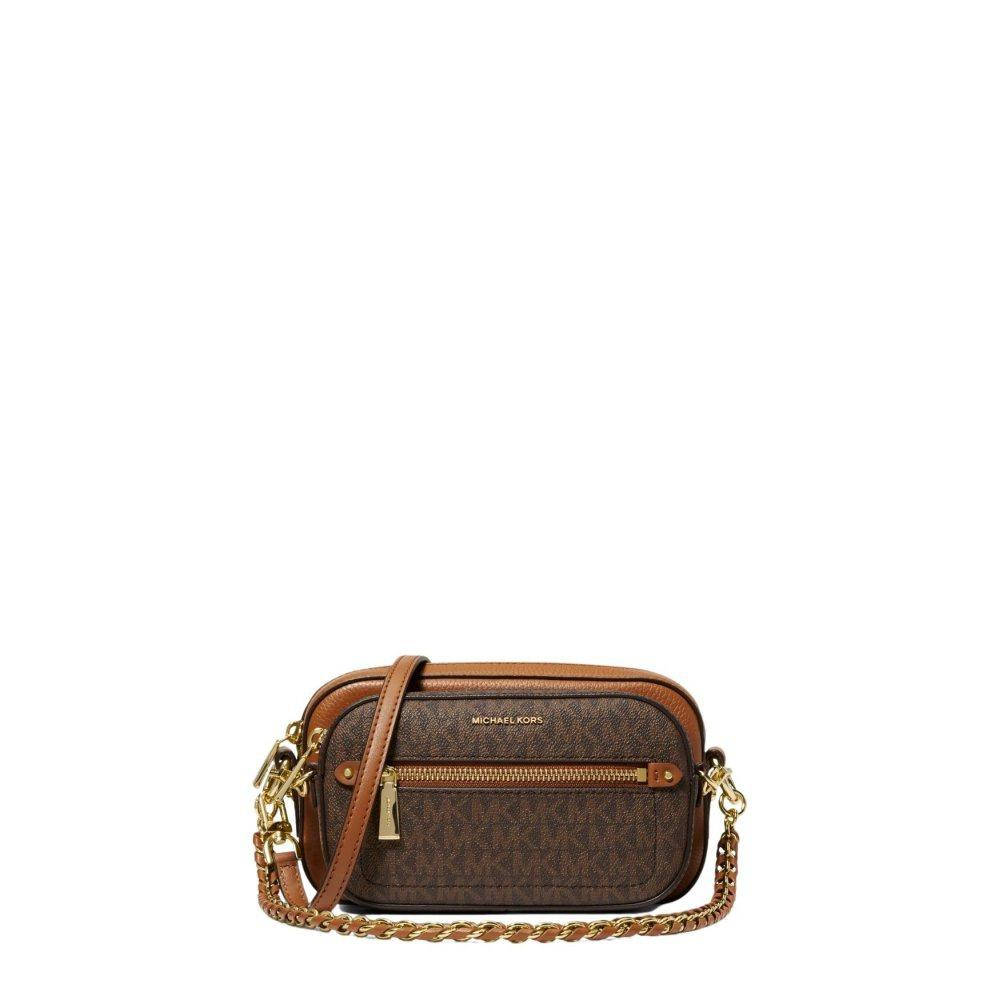MICHAEL-KORS: (472, 716, 543, 724)
